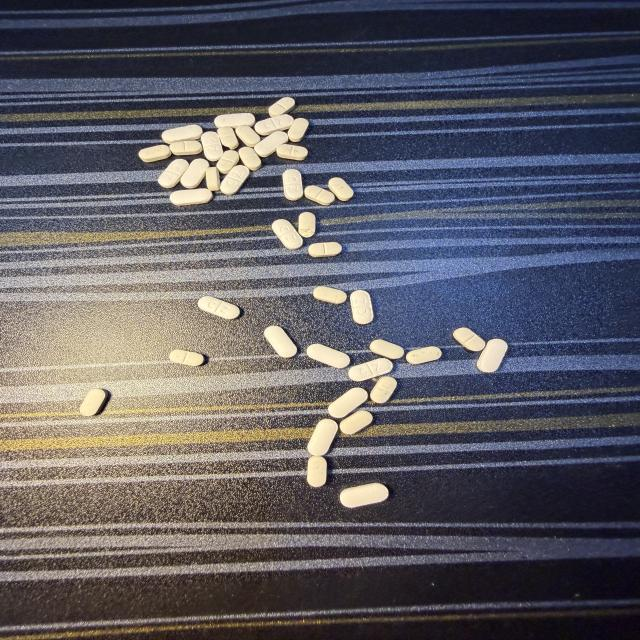pill: (328, 388, 367, 418), (340, 483, 388, 507), (476, 338, 508, 372), (308, 419, 338, 455), (307, 344, 350, 368), (264, 326, 297, 357), (349, 358, 392, 381), (198, 297, 240, 319), (272, 219, 302, 249), (254, 131, 288, 157), (158, 159, 188, 188), (221, 165, 249, 195), (181, 159, 209, 189), (79, 389, 108, 416), (350, 290, 373, 324), (254, 115, 293, 135), (340, 410, 372, 434), (162, 125, 202, 144), (453, 328, 485, 351), (370, 377, 397, 403), (170, 189, 212, 205), (369, 340, 404, 359), (214, 113, 255, 129), (406, 346, 442, 364), (201, 132, 223, 161), (328, 177, 353, 201), (283, 170, 303, 200), (307, 456, 326, 486), (305, 186, 335, 205), (169, 350, 204, 366), (235, 125, 260, 147), (139, 145, 171, 162), (314, 287, 346, 304), (238, 147, 261, 170), (217, 150, 239, 174), (269, 97, 295, 117), (276, 144, 308, 160), (308, 242, 342, 257), (170, 140, 202, 155), (288, 118, 308, 142), (218, 127, 238, 149), (298, 212, 315, 237), (206, 167, 220, 191)
